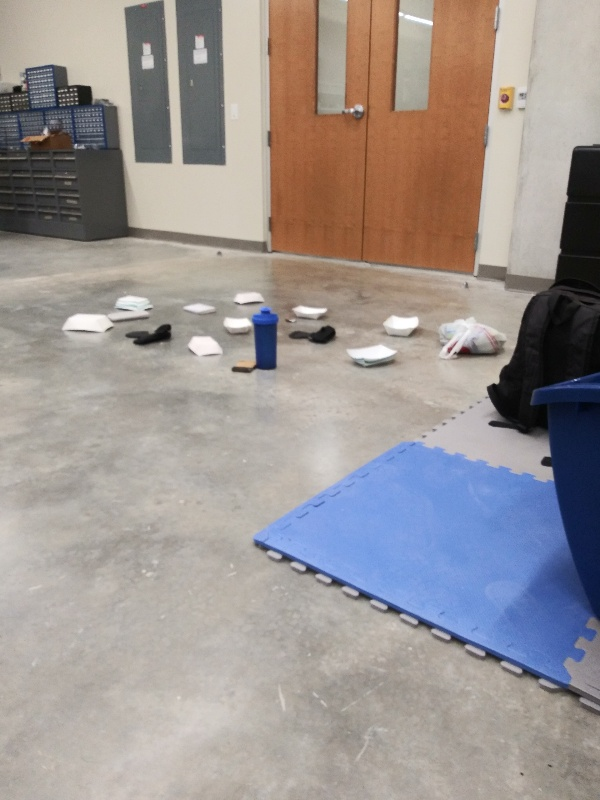plate: (341, 339, 405, 373), (57, 309, 119, 337), (374, 309, 424, 341), (185, 333, 227, 360), (285, 300, 332, 323), (108, 292, 157, 310), (229, 289, 270, 306)
